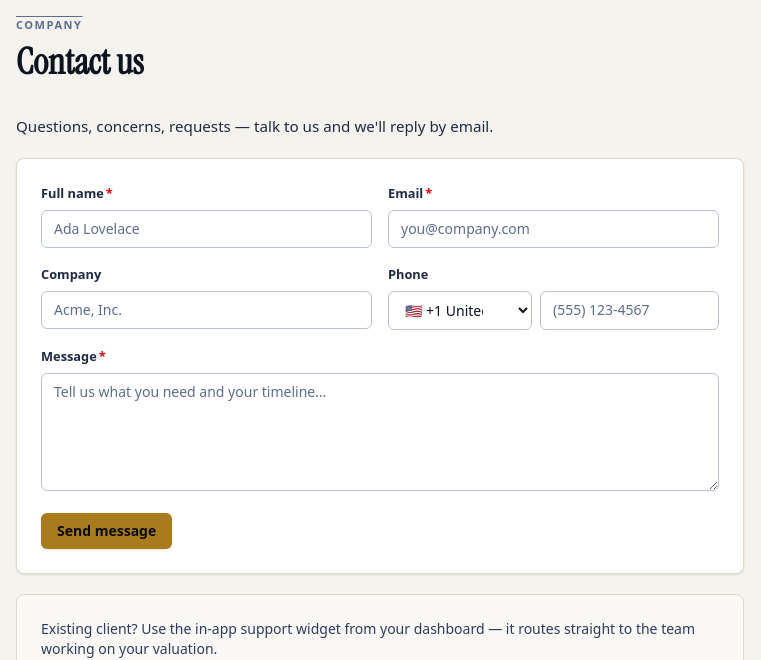
Test: contact form (gap #28) › names every empty required box on a submit of the blank form
The image size is (761, 660).
Click the button "Send message": (107, 531) x1=41 y1=513 x2=172 y2=549
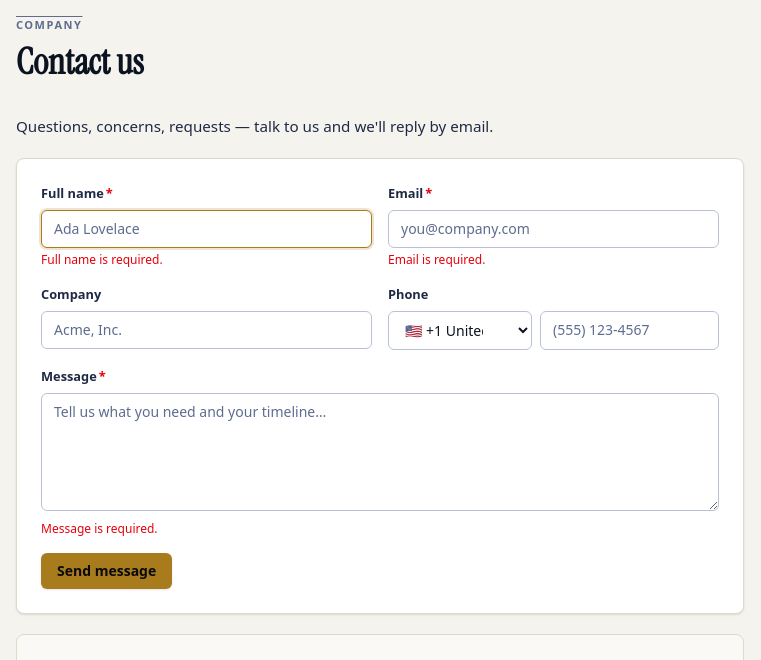
Expected: the text "Full name is required." is shown, x1=41 y1=251 x2=163 y2=268
Expected: the text "Email is required." is shown, x1=388 y1=251 x2=485 y2=268
Expected: the text "Message is required." is shown, x1=41 y1=520 x2=158 y2=537
